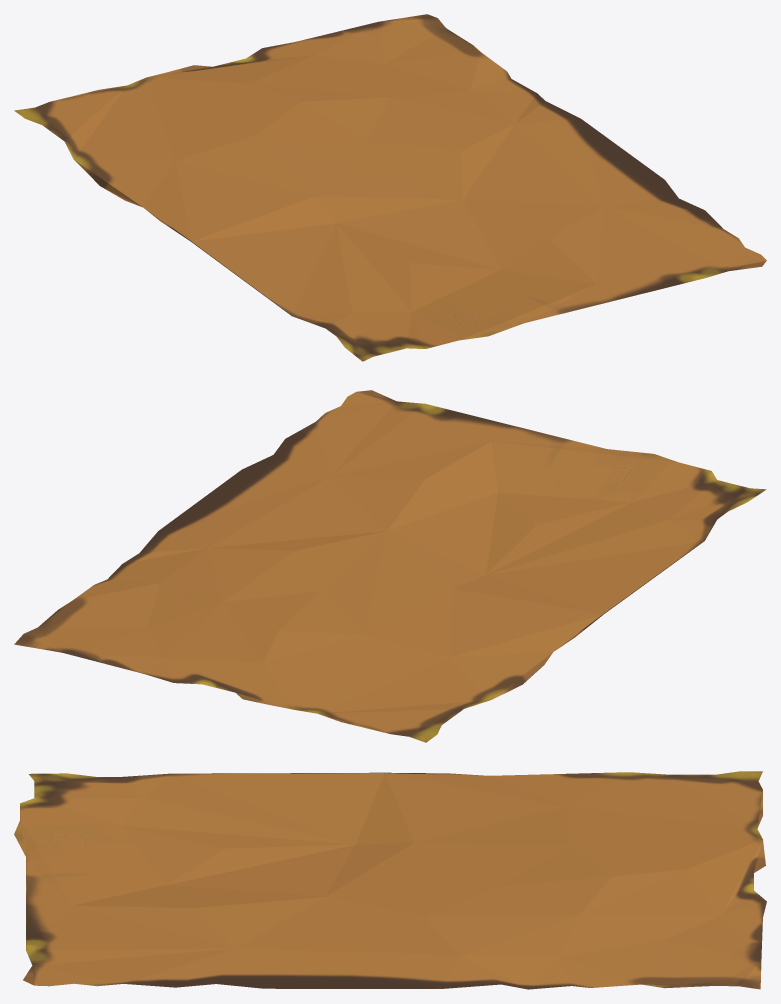
File: SC_Letter.fbx
The picture shows the model from 3 angles, top to bottom: view 1: azimuth 30°, elevation 25°; view 2: azimuth 150°, elevation 25°; view 3: azimuth 270°, elevation 25°; orthographic projection. The views are drawn at different scales.
Visible parts, largest first — view 1: SC_Letter; view 2: SC_Letter; view 3: SC_Letter.
Boxes of the visible parts, x1=… form: SC_Letter: x1=14, y1=14, x2=766, y2=361; SC_Letter: x1=14, y1=390, x2=766, y2=742; SC_Letter: x1=14, y1=771, x2=766, y2=989.
Bounding box in the file's own units: 36.33 × 1.24 × 52.57.
